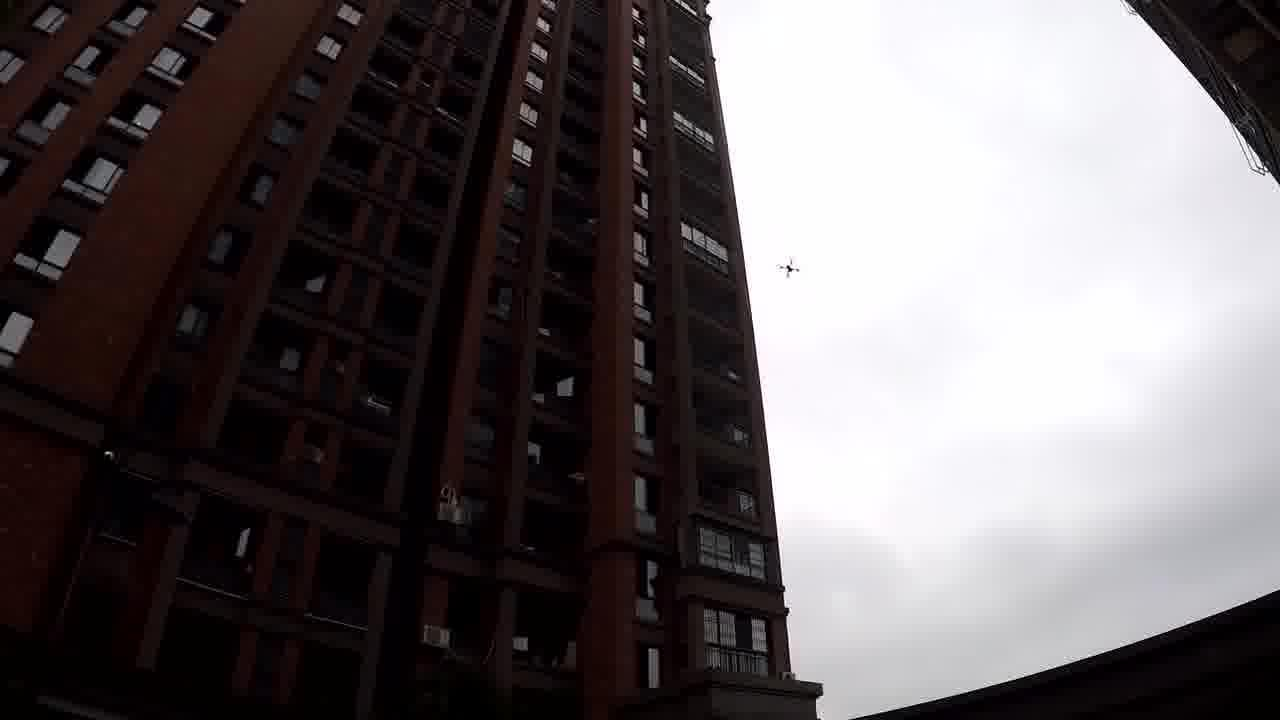drone: (760, 231, 802, 276)
